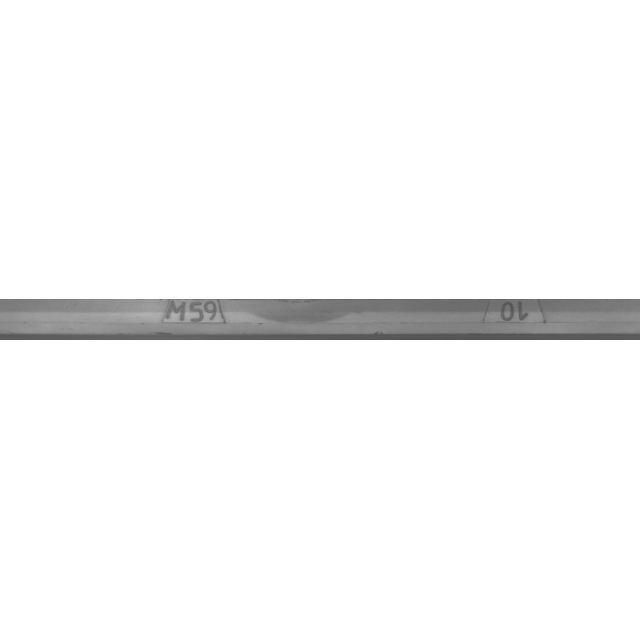mohao: (96, 270, 296, 370)
xuehao: (417, 270, 617, 370)
